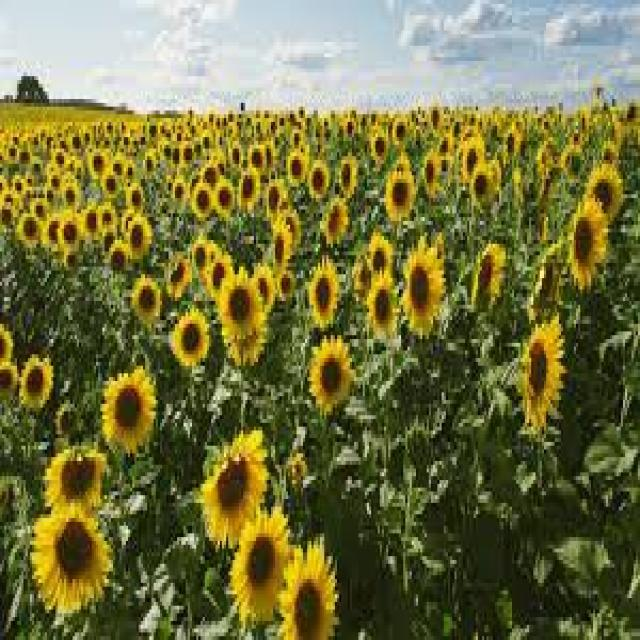sunflower: (28, 489, 117, 626), (189, 425, 278, 558), (231, 514, 300, 629), (273, 533, 342, 640), (522, 326, 577, 440), (98, 360, 158, 459), (42, 440, 108, 524), (400, 238, 449, 341), (212, 257, 266, 345), (309, 332, 356, 416), (569, 198, 609, 293), (299, 252, 341, 332), (17, 345, 58, 421), (363, 266, 399, 346), (171, 309, 211, 377), (464, 154, 498, 216), (126, 270, 164, 324), (384, 168, 417, 228), (318, 194, 354, 248), (122, 213, 152, 267), (163, 246, 191, 303), (10, 206, 42, 255), (303, 154, 333, 204), (53, 208, 81, 261), (332, 154, 364, 196), (85, 143, 111, 185), (120, 183, 152, 217), (387, 109, 411, 154), (188, 175, 211, 221), (234, 168, 257, 210), (59, 175, 84, 210), (139, 146, 158, 184), (49, 147, 73, 173)
